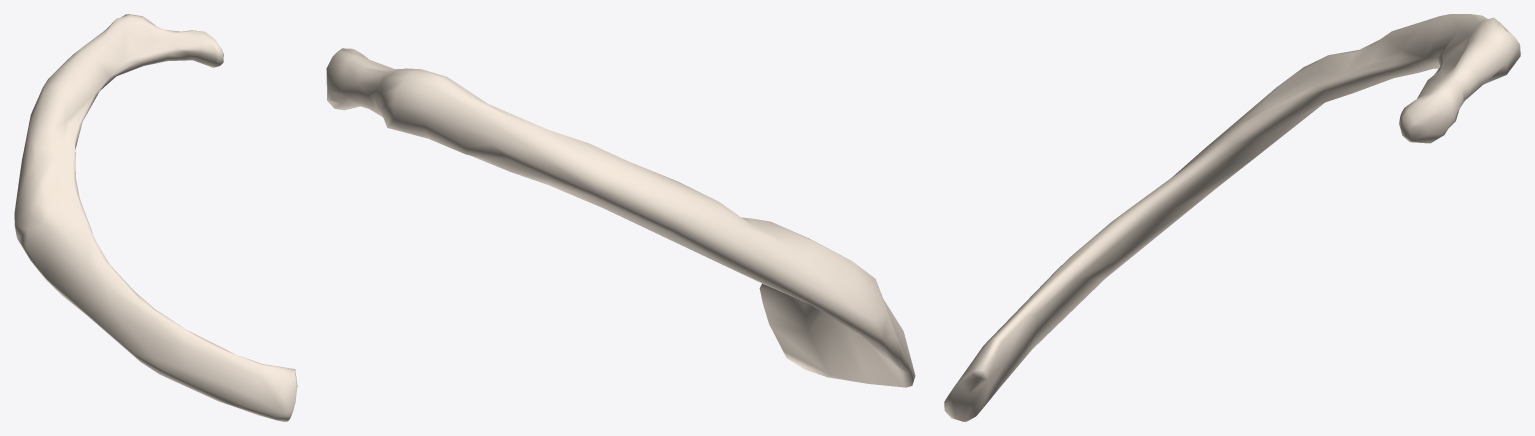
The model's file is right_rib_2.glb.
3 renders of one model, left to right at view 1: azimuth 30°, elevation 25°; view 2: azimuth 150°, elevation 25°; view 3: azimuth 270°, elevation 25°, orthographic. The views are drawn at different scales.
Parts seen in each view (by area): view 1: Rib (2nd).r; view 2: Rib (2nd).r; view 3: Rib (2nd).r.
Part boxes in pixels (x1,y1,x2,y2): Rib (2nd).r: [14, 14, 297, 421]; Rib (2nd).r: [326, 48, 915, 387]; Rib (2nd).r: [944, 14, 1520, 421].
Bounding box in the file's own units: 0.0833 × 0.0899 × 0.1147.
